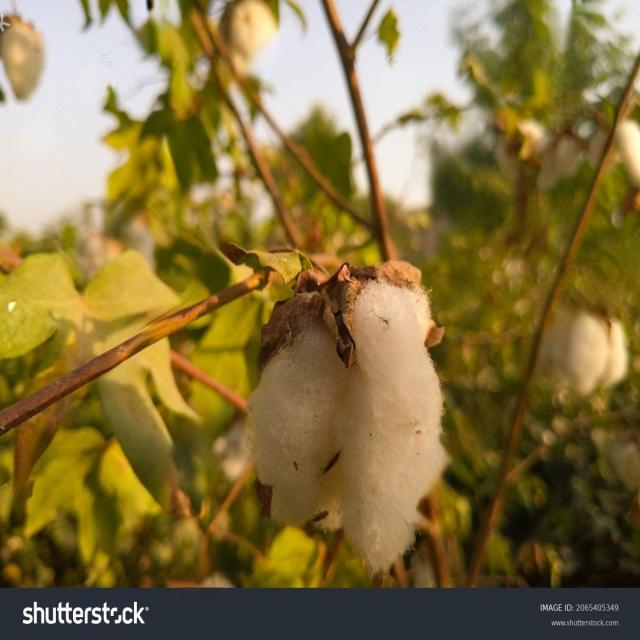Leaf: (235, 240, 455, 581)
